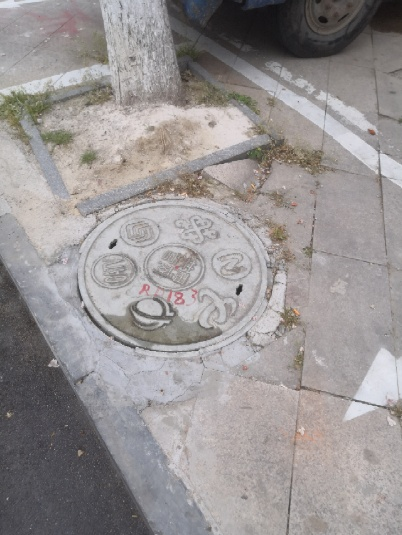good: (78, 202, 275, 355)
